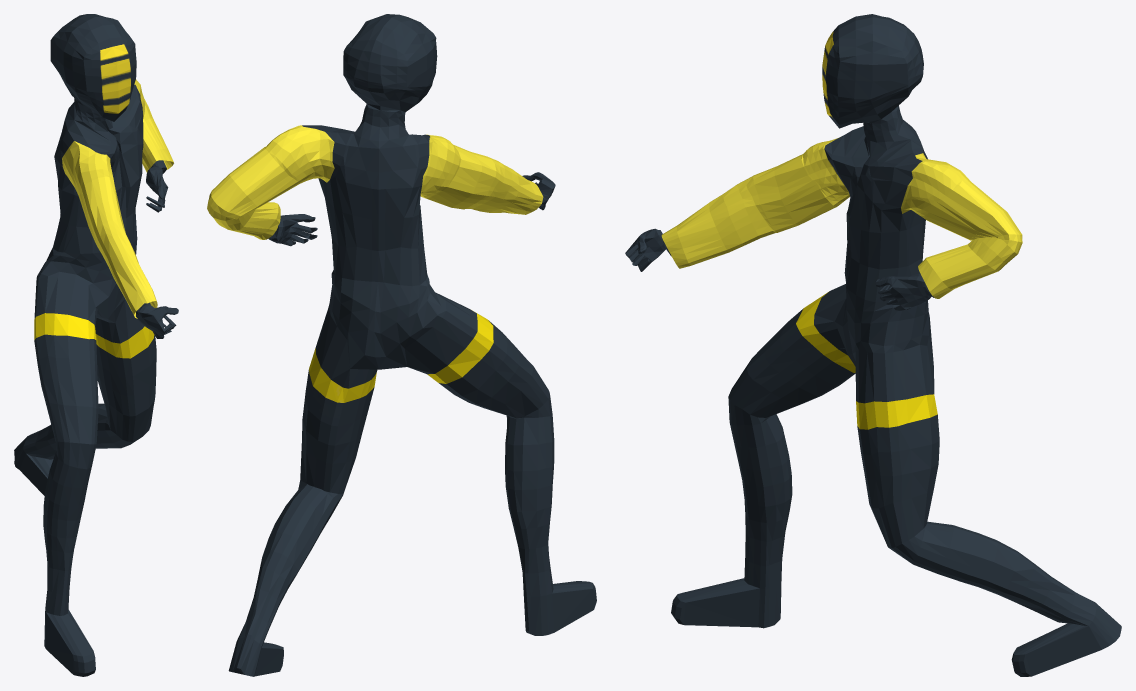
Rendered from Sentry_WL_000010.obj.
3 views of the same model, side by side, from view 1: azimuth 30°, elevation 25°; view 2: azimuth 150°, elevation 25°; view 3: azimuth 270°, elevation 25° (orthographic). The views are drawn at different scales.
Visible parts, largest first — view 1: Cube; view 2: Cube; view 3: Cube.
Part boxes in pixels (x1=…): Cube: x1=14, y1=14, x2=178, y2=676; Cube: x1=207, y1=14, x2=596, y2=676; Cube: x1=625, y1=14, x2=1121, y2=676.
Size of the model in its own units: 1.39 by 3.6 by 2.48.
